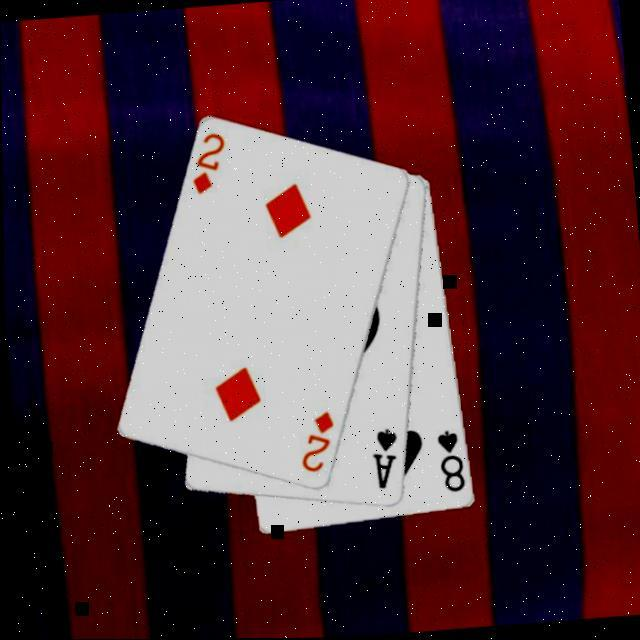2D: (292, 407, 340, 476), (185, 128, 233, 197)
8S: (433, 426, 468, 496)
AS: (366, 424, 404, 492)
